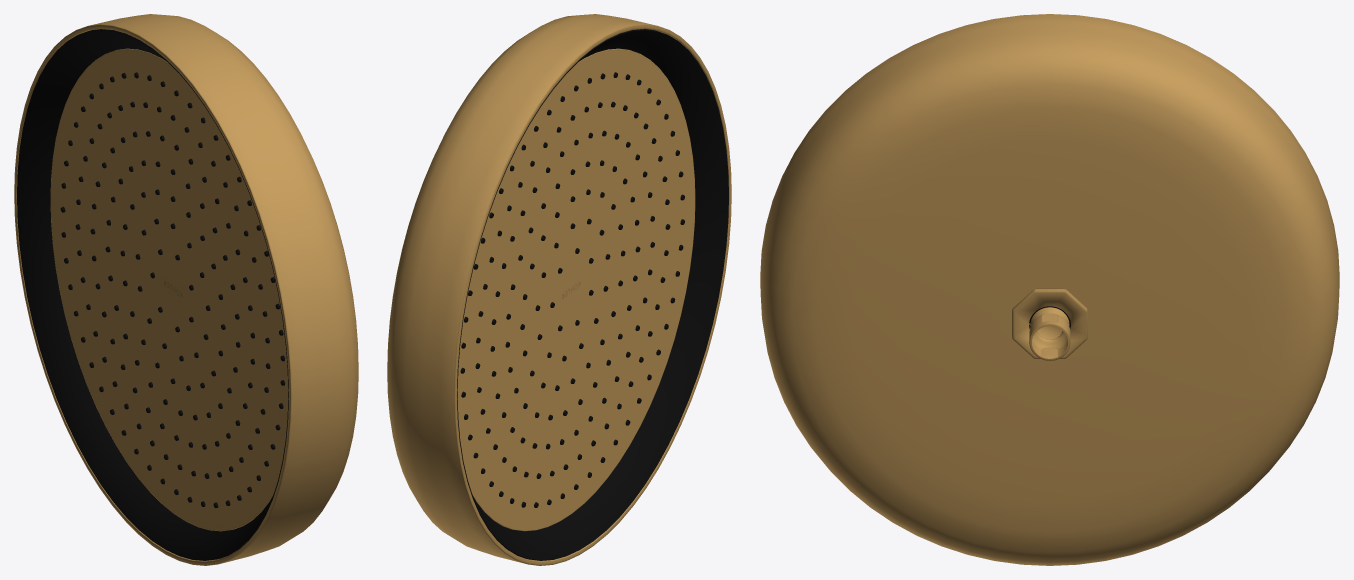
The picture shows the model from 3 angles, left to right: view 1: azimuth 30°, elevation 25°; view 2: azimuth 150°, elevation 25°; view 3: azimuth 270°, elevation 25°; orthographic projection. The views are drawn at different scales.
Parts seen in each view (by area): view 1: 26292T; view 2: 26292T; view 3: 26292T.
Boxes of the visible parts, x1,y1,x2,y2 form: 26292T: [14, 14, 358, 565]; 26292T: [387, 14, 731, 565]; 26292T: [760, 14, 1339, 565].
Size of the model in its own units: 3.76 by 13.9 by 13.9.
1 material, 1 textured.
